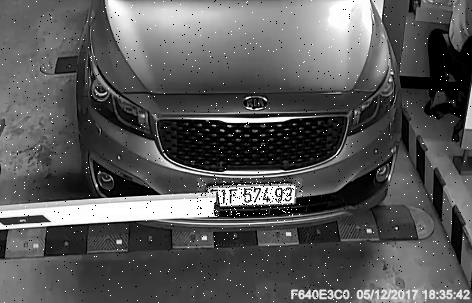License-plate: (199, 179, 305, 217)
